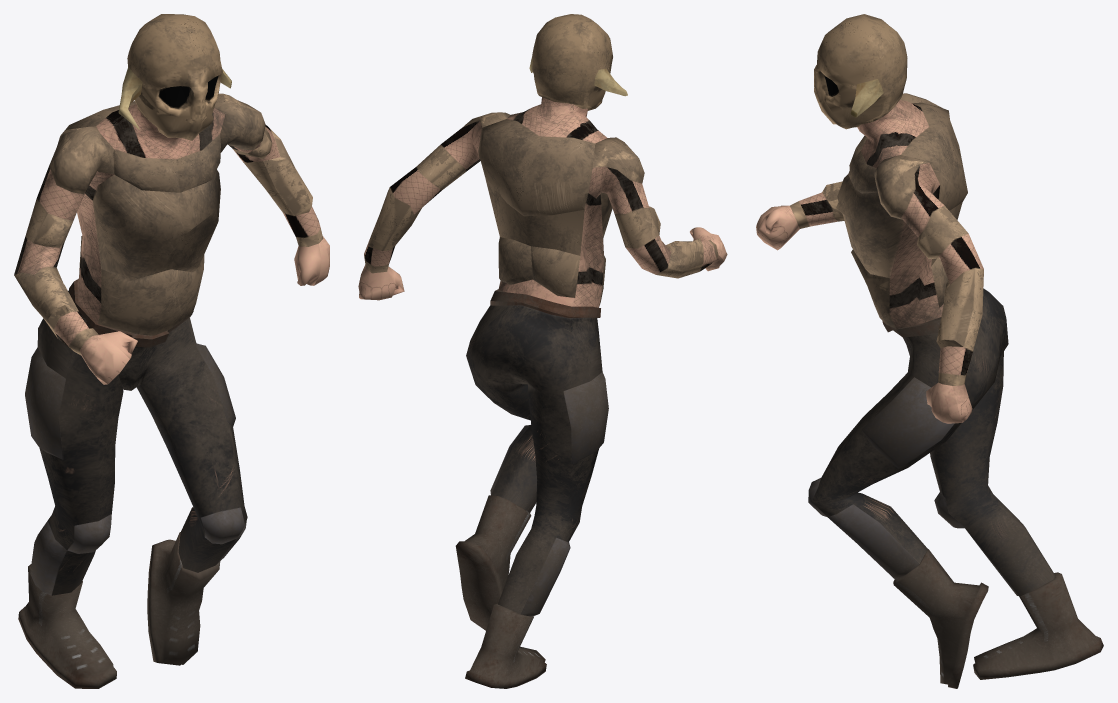
The model's file is Anim_correr_npc1.0034.obj.
3 views of the same model, side by side, from view 1: azimuth 30°, elevation 25°; view 2: azimuth 150°, elevation 25°; view 3: azimuth 270°, elevation 25° (orthographic). The views are drawn at different scales.
Parts seen in each view (by area): view 1: Anim_correr_npc1; view 2: Anim_correr_npc1; view 3: Anim_correr_npc1.
Part boxes in pixels (x1,y1,x2,y2): Anim_correr_npc1: (14, 14, 329, 688); Anim_correr_npc1: (358, 14, 727, 688); Anim_correr_npc1: (756, 14, 1103, 688).
Size of the model in its own units: 4.6 by 9.13 by 4.36.
